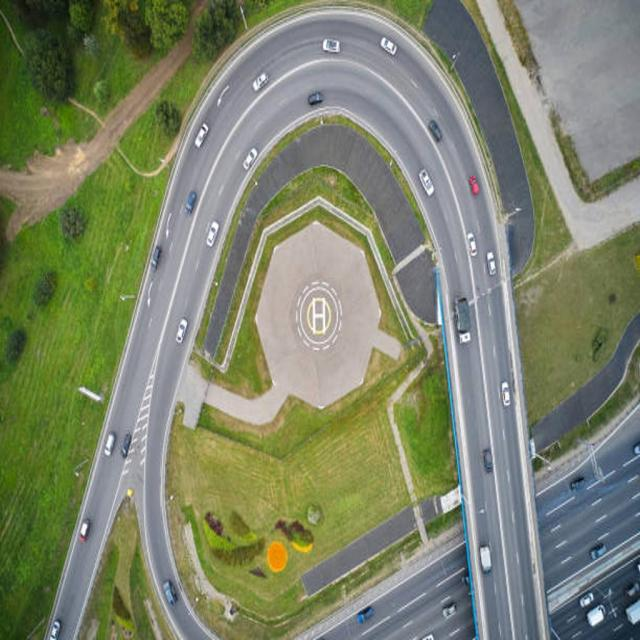helipad: (298, 285, 337, 343)
